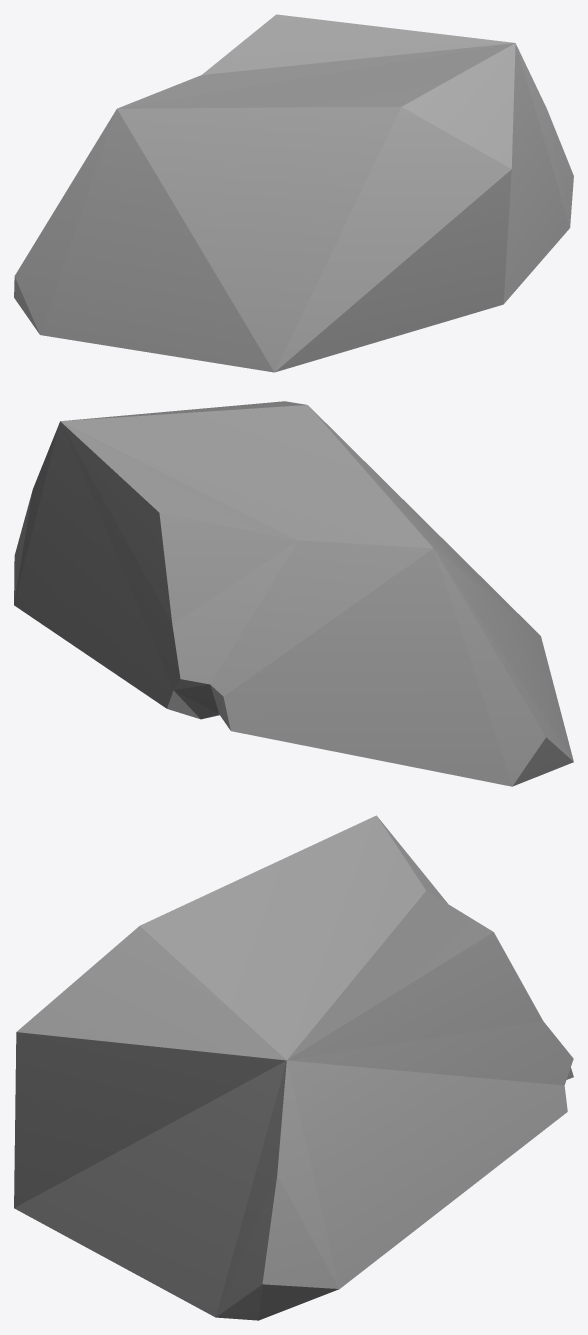
The model's file is stone small 13.fbx.
The picture shows the model from 3 angles, top to bottom: view 1: azimuth 30°, elevation 25°; view 2: azimuth 150°, elevation 25°; view 3: azimuth 270°, elevation 25°; orthographic projection. The views are drawn at different scales.
Visible parts, largest first — view 1: stone small 13; view 2: stone small 13; view 3: stone small 13.
Boxes of the visible parts, x1,y1,x2,y2 form: stone small 13: (14,14,573,372); stone small 13: (14,401,573,786); stone small 13: (14,815,573,1320).
Size of the model in its own units: 67.37 by 27.66 by 45.98.
